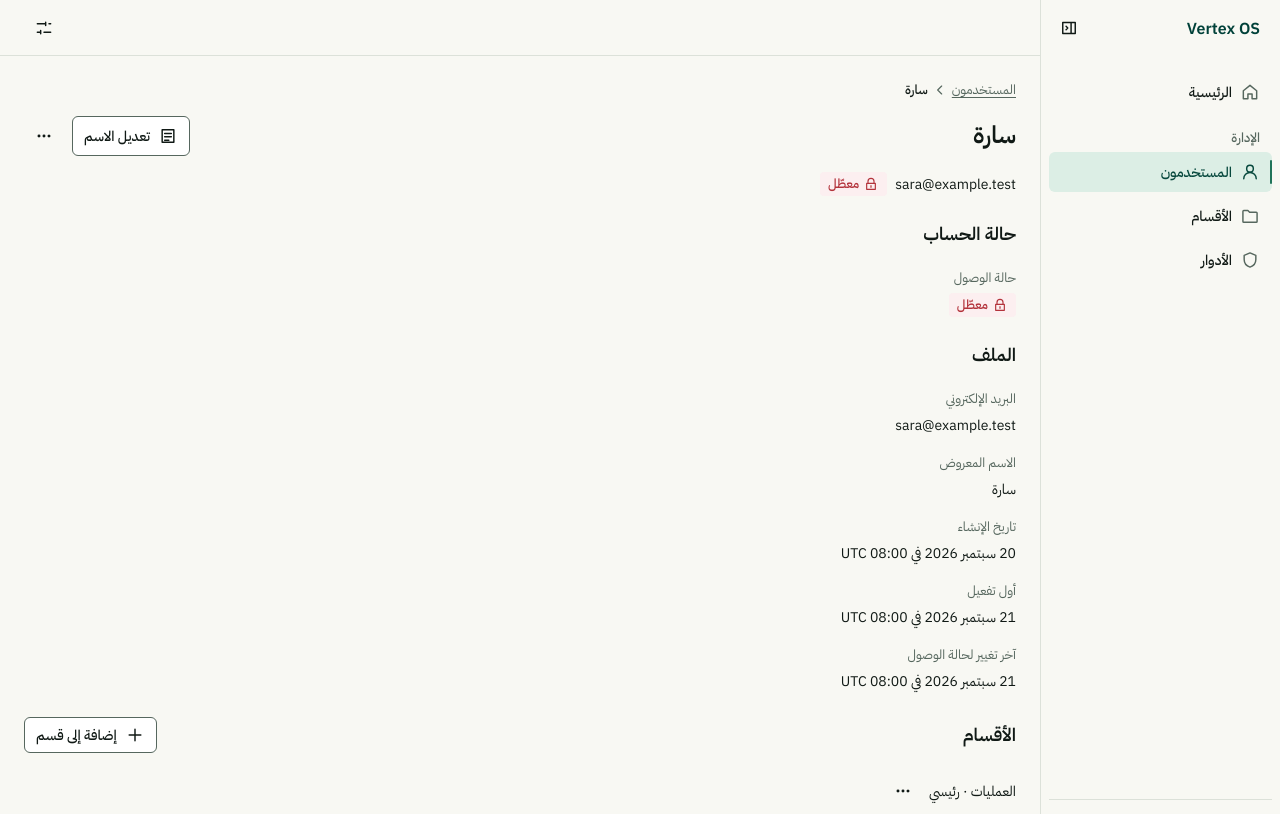
Test case: the user detail › states the reactivation target the backend derived (ACTIVE)
Click the button named "إجراءات المستخدم" at (44, 136), box [24,116,64,156]
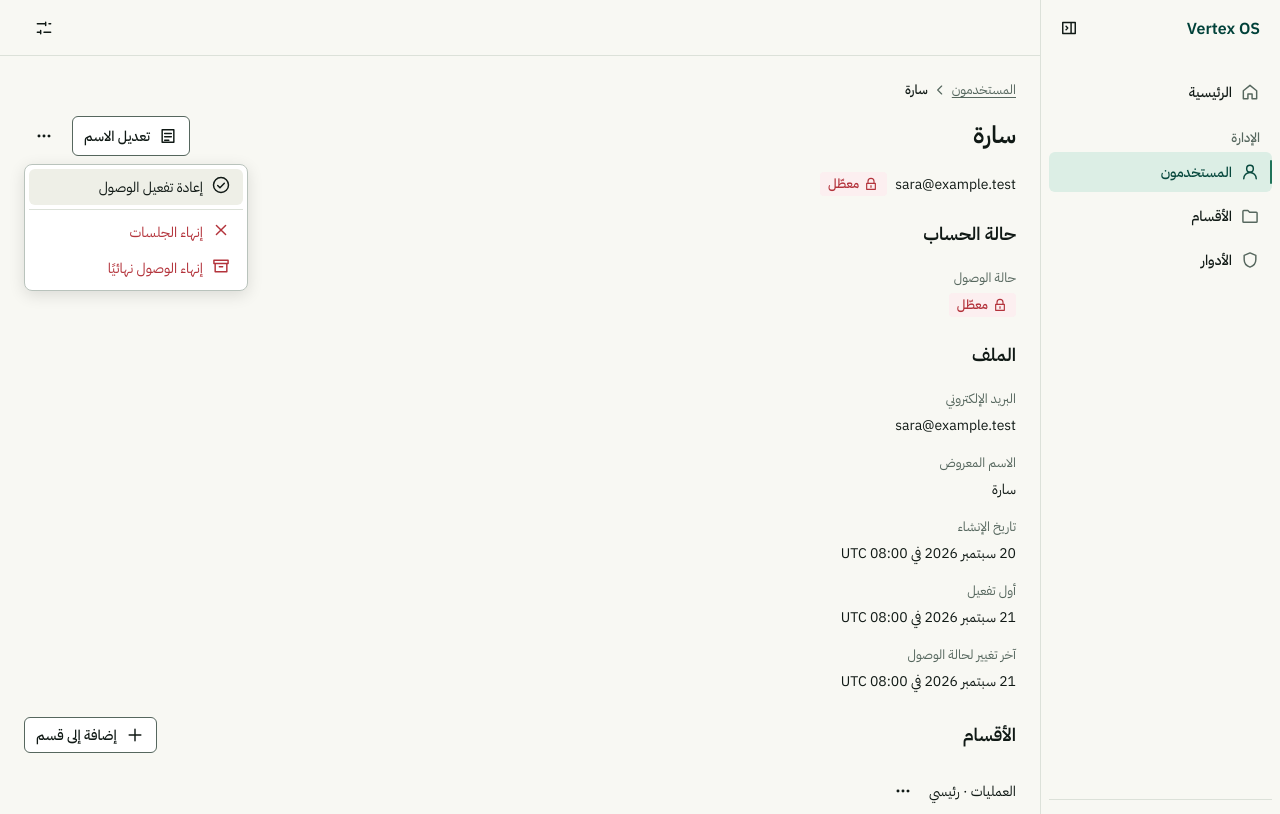
Click the menu item "إعادة تفعيل الوصول" at (136, 187), box [29,169,243,205]
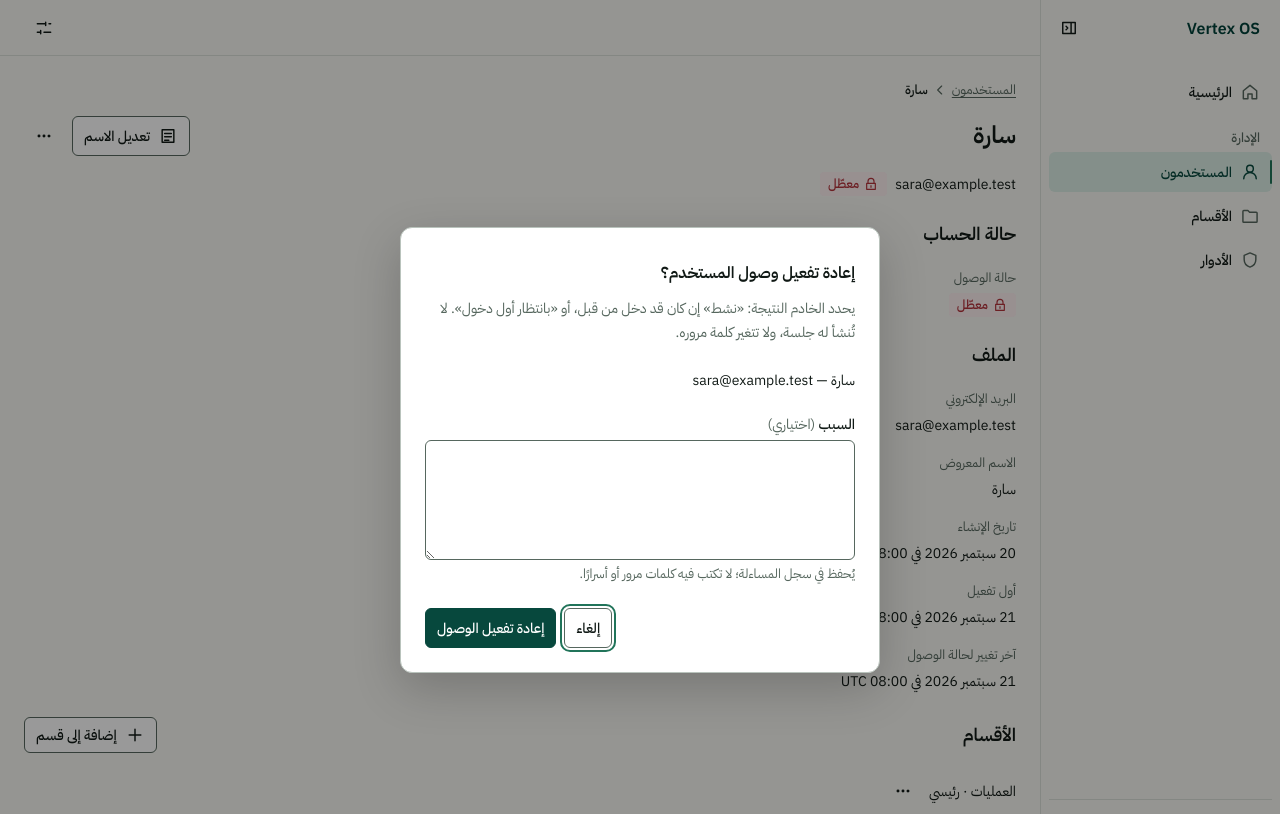
Expected: the dialog shows "يحدد الخادم النتيجة", [440,299,855,341]
Click the button "إعادة تفعيل الوصول" at (491, 628), box [425,608,556,648]
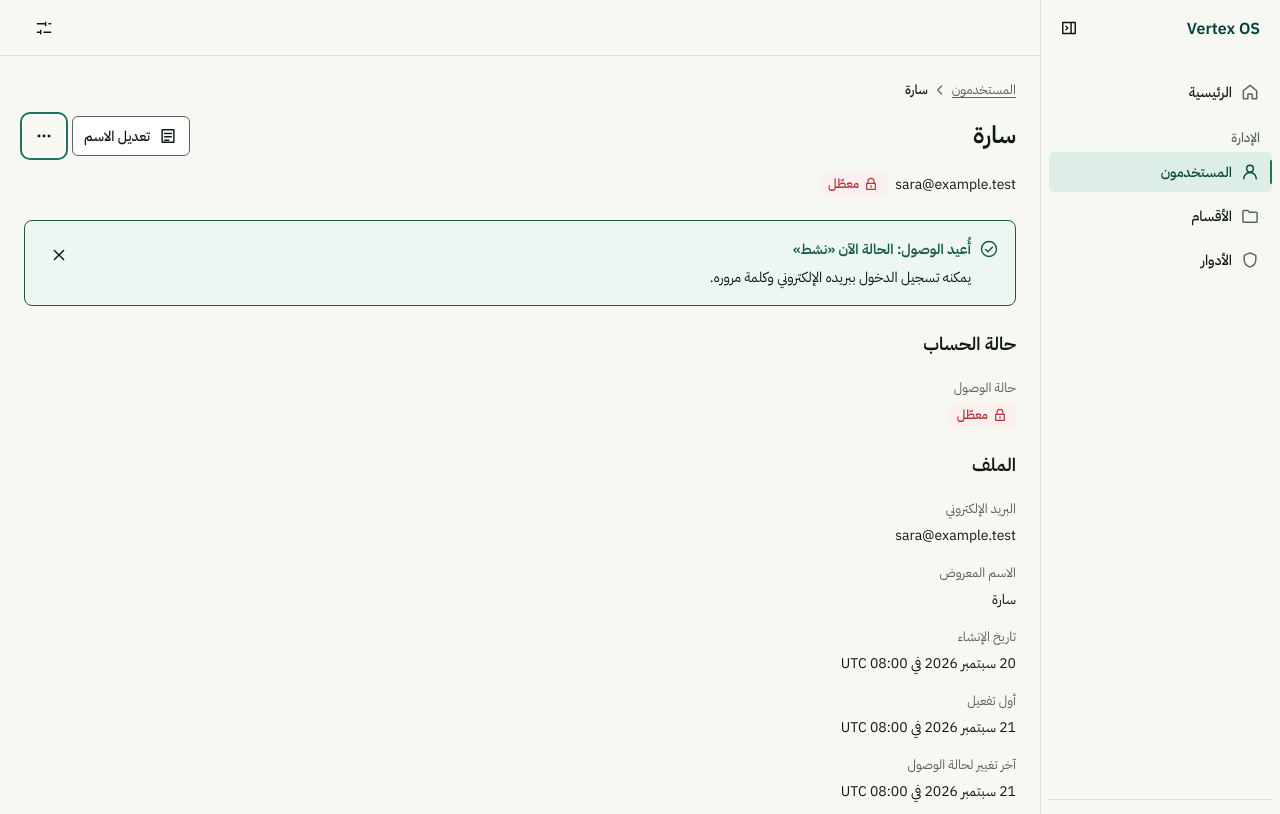
Expected: the text "أُعيد الوصول: الحالة الآن «نشط»" is shown, [793,240,971,258]
